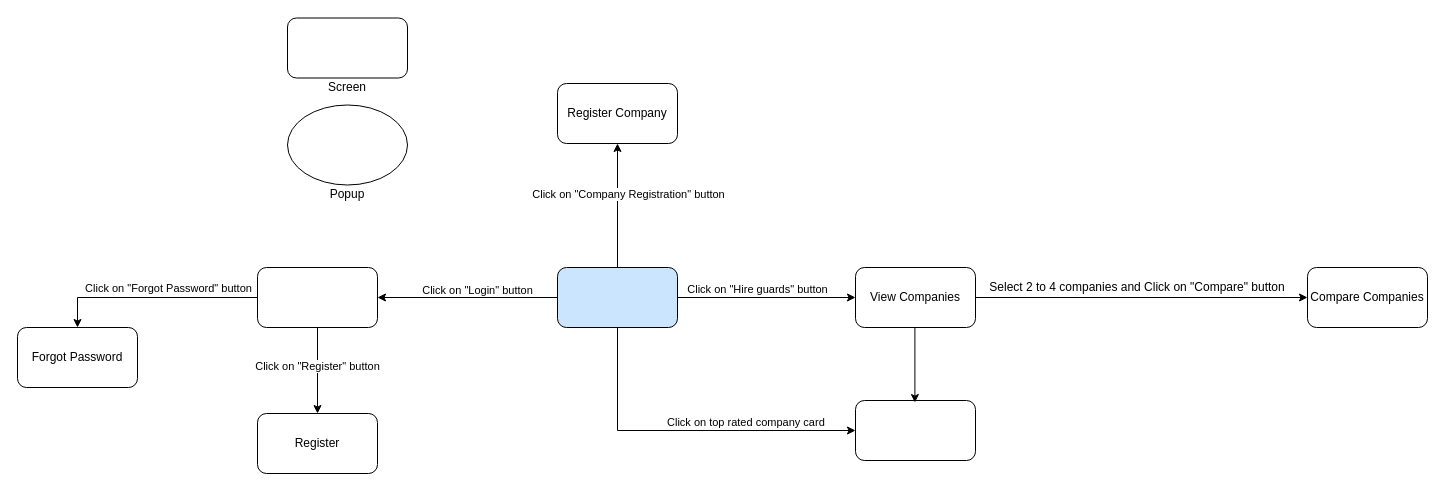
This 1445x491 diagram has some shape labels left out. The shapes that lost their labels are listed below. From the top down, each one's centre as x and y in pixels, then its label:
At [317,297]: "Login".
At [617,297]: "Home".
At [915,430]: "View Company Details".
